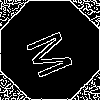M: (25, 25, 83, 81)
